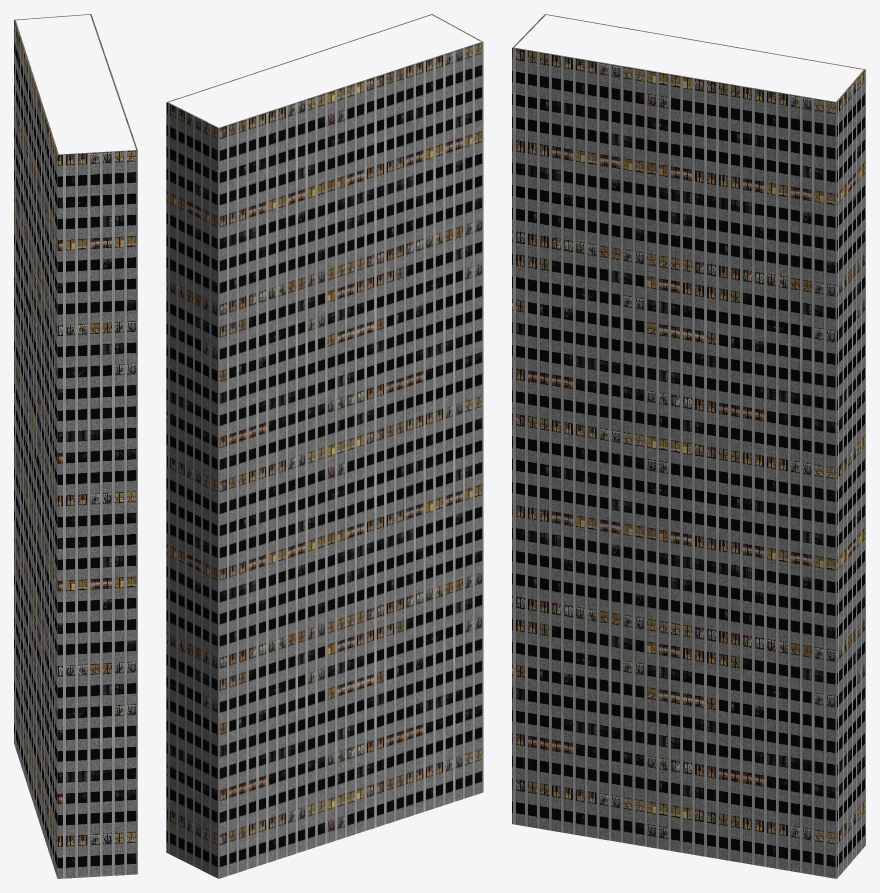
3 renders of one model, left to right at view 1: azimuth 30°, elevation 25°; view 2: azimuth 150°, elevation 25°; view 3: azimuth 270°, elevation 25°, orthographic. The views are drawn at different scales.
Parts seen in each view (by area): view 1: Facade015, ConcreteRoof; view 2: Facade015, ConcreteRoof; view 3: Facade015, ConcreteRoof.
Boxes of the visible parts, <box> form: Facade015: <box>14,20,137,878</box>; ConcreteRoof: <box>14,14,137,154</box>; Facade015: <box>166,42,483,878</box>; ConcreteRoof: <box>166,14,483,128</box>; Facade015: <box>512,48,865,878</box>; ConcreteRoof: <box>512,14,865,102</box>.
Bounding box in the file's own units: 29.75 × 121 × 49.99.
2 materials, 2 textured.
